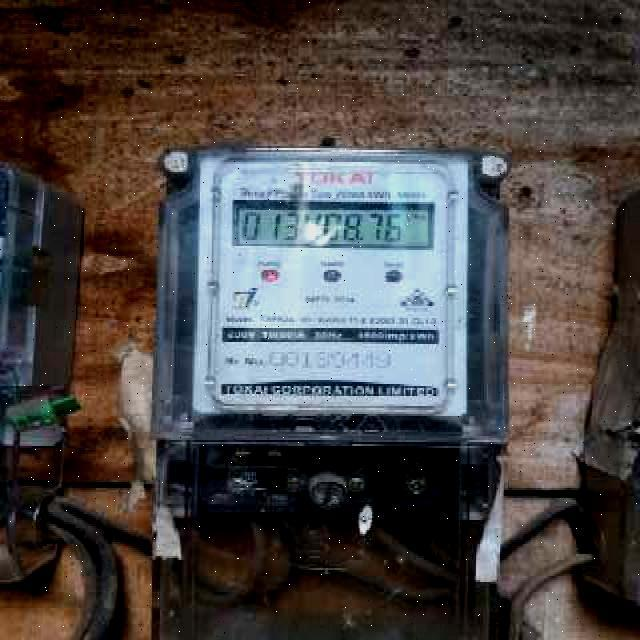LCD: (227, 196, 447, 254)
